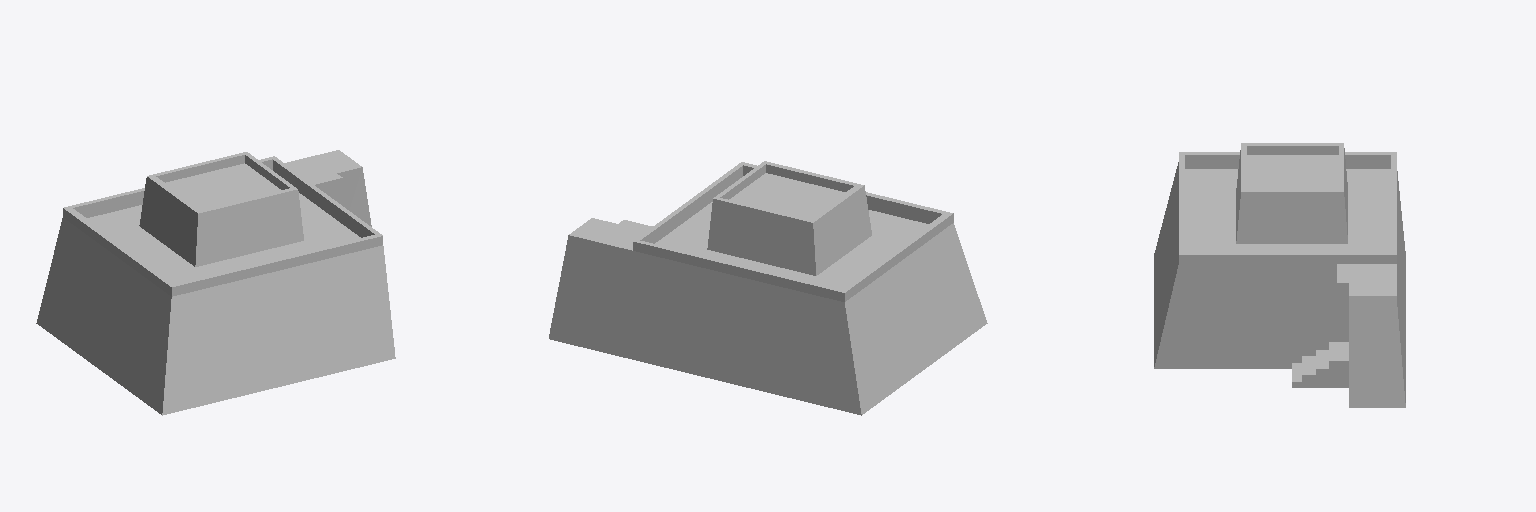
Rendered from casa1.obj.
The picture shows the model from 3 angles: view 1: azimuth 30°, elevation 25°; view 2: azimuth 150°, elevation 25°; view 3: azimuth 270°, elevation 25°; orthographic projection.
Visible parts, largest first — view 1: cube; view 2: cube; view 3: cube.
Part boxes in pixels (left/top/right/bottom): cube: left=36, top=150, right=395, bottom=415; cube: left=549, top=161, right=987, bottom=415; cube: left=1154, top=143, right=1405, bottom=407.
Size of the model in its own units: 14.84 by 6.82 by 10.33.